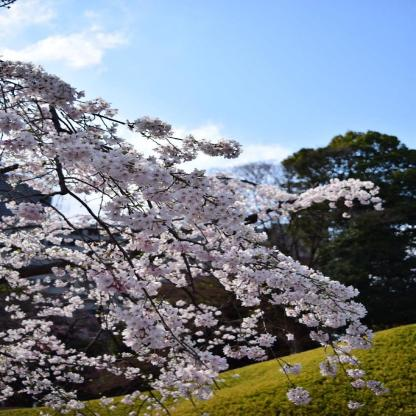Someiyoshino: (1, 36, 393, 416)
